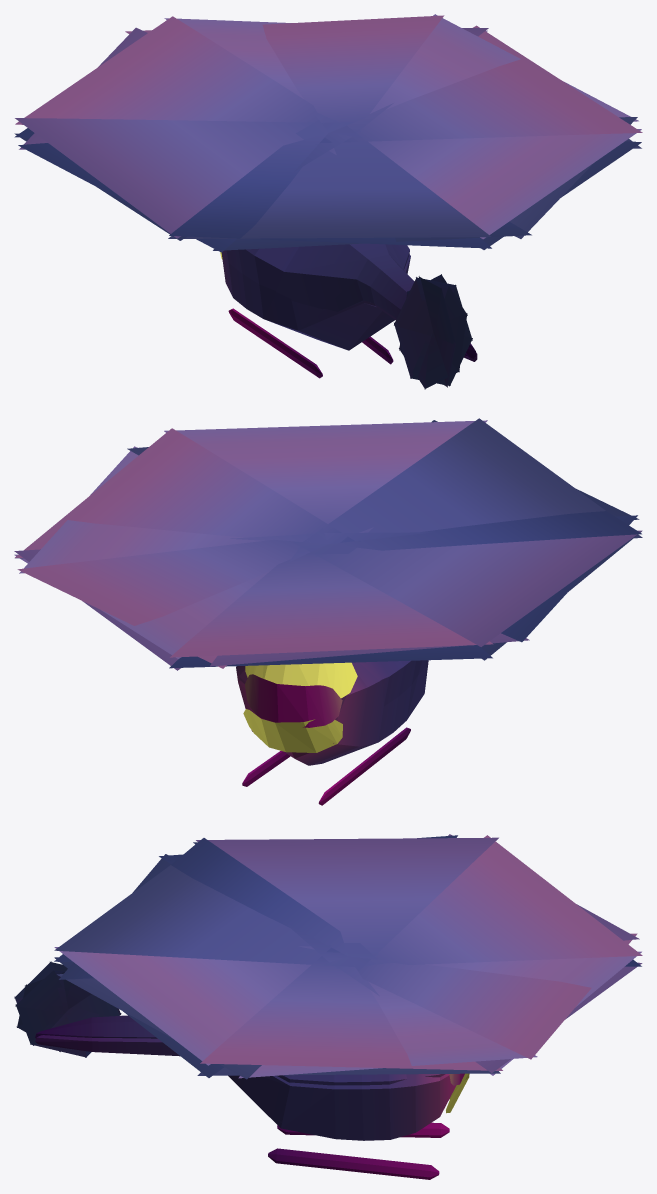
File: Helicopter.fbx
3 views of the same model, one above another, from view 1: azimuth 30°, elevation 25°; view 2: azimuth 150°, elevation 25°; view 3: azimuth 270°, elevation 25° (orthographic). The views are drawn at different scales.
Parts seen in each view (by area): view 1: Helicopter; view 2: Helicopter; view 3: Helicopter.
Boxes of the visible parts, left/top/right/bottom form: Helicopter: left=14, top=14, right=642, bottom=389; Helicopter: left=14, top=418, right=642, bottom=805; Helicopter: left=14, top=834, right=642, bottom=1179.
Bounding box in the file's own units: 12.54 × 5.46 × 14.26.
